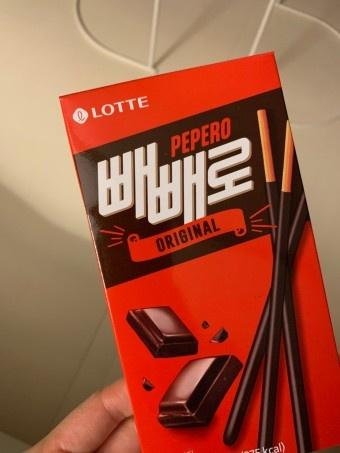snack: (58, 50, 340, 453)
